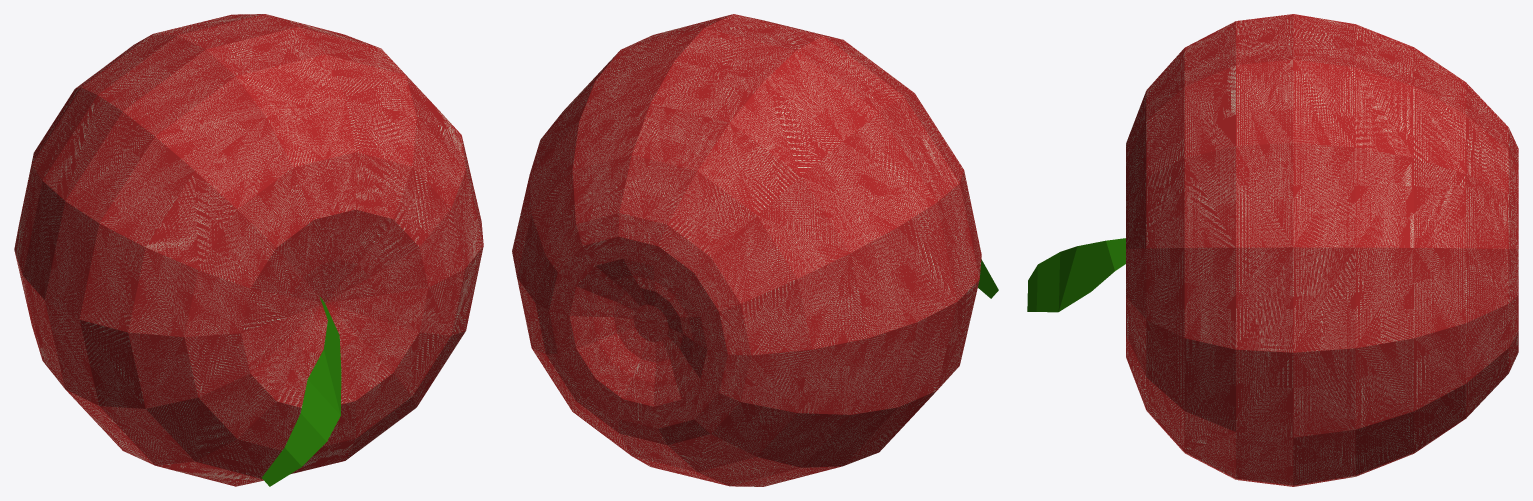
The picture shows the model from 3 angles, left to right: view 1: azimuth 30°, elevation 25°; view 2: azimuth 150°, elevation 25°; view 3: azimuth 270°, elevation 25°; orthographic projection.
Parts seen in each view (by area): view 1: apple; view 2: apple; view 3: apple.
Boxes of the visible parts, x1,y1,x2,y2 form: apple: (14, 14, 483, 486); apple: (512, 14, 998, 486); apple: (1027, 14, 1518, 486).
Bounding box in the file's own units: 2.79 × 2.72 × 2.83.
